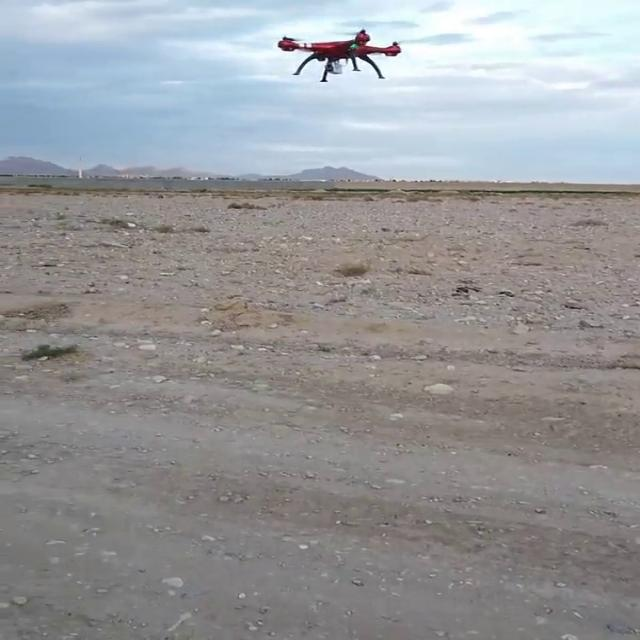drone: (272, 27, 405, 83)
